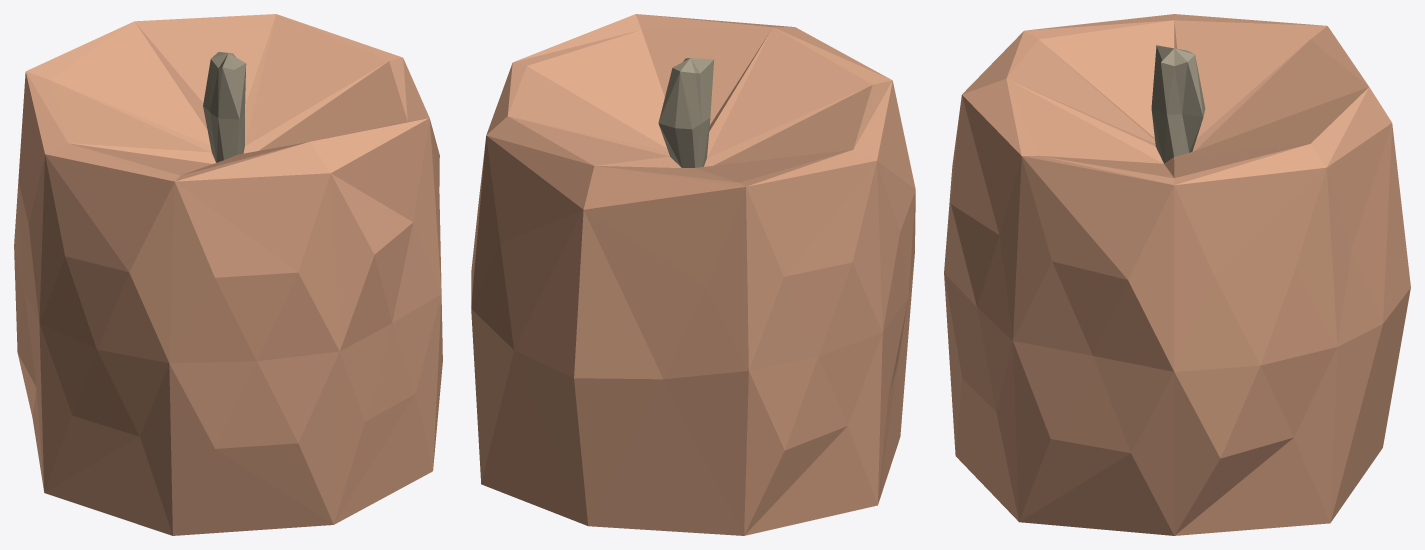
Rendered from item_candle.fbx.
3 renders of one model, left to right at view 1: azimuth 30°, elevation 25°; view 2: azimuth 150°, elevation 25°; view 3: azimuth 270°, elevation 25°, orthographic. The views are drawn at different scales.
Visible parts, largest first — view 1: item_candle; view 2: item_candle; view 3: item_candle.
Part boxes in pixels (left/top/right/bottom): item_candle: left=14, top=14, right=442, bottom=535; item_candle: left=471, top=14, right=915, bottom=535; item_candle: left=944, top=14, right=1410, bottom=535.
Size of the model in its own units: 8.37 by 8.31 by 8.49.
